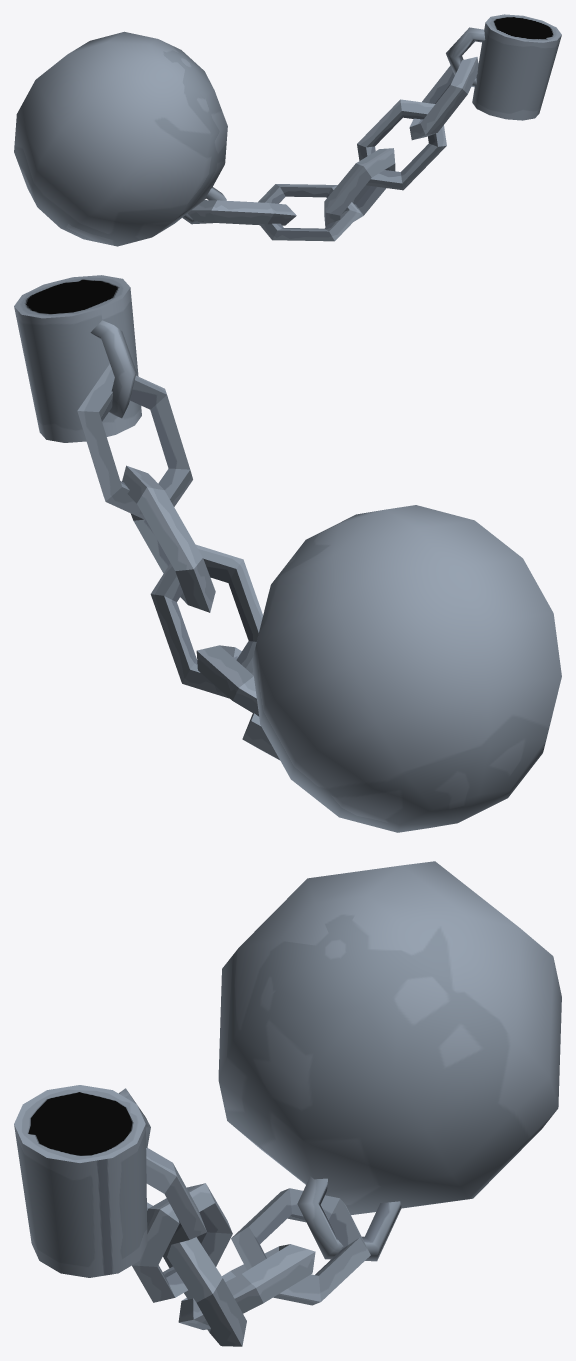
Rendered from BallAndChain.fbx.
The picture shows the model from 3 angles, top to bottom: view 1: azimuth 30°, elevation 25°; view 2: azimuth 150°, elevation 25°; view 3: azimuth 270°, elevation 25°; orthographic projection. The views are drawn at different scales.
Visible parts, largest first — view 1: BallAndChain; view 2: BallAndChain; view 3: BallAndChain.
Boxes of the visible parts, box(x1,y1,x2,y2) form: BallAndChain: box(14, 14, 561, 246); BallAndChain: box(14, 275, 561, 832); BallAndChain: box(14, 861, 561, 1346).
Size of the model in its own units: 99.54 by 45.27 by 63.95.
